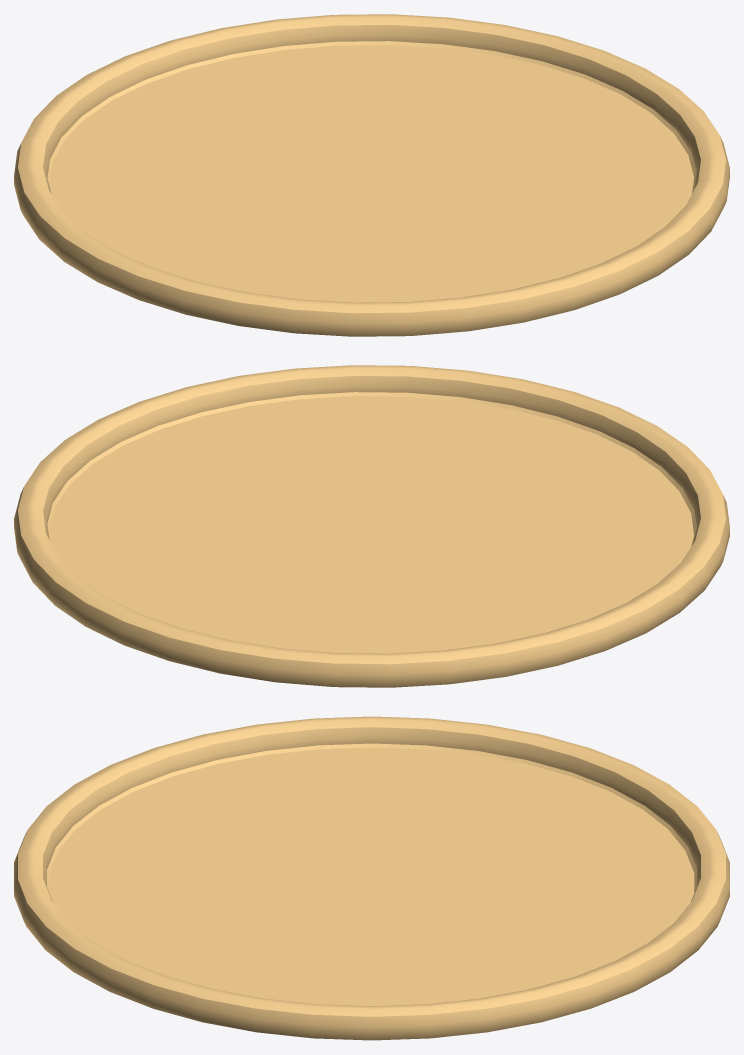
The model's file is Dough.glb.
3 views of the same model, one above another, from view 1: azimuth 30°, elevation 25°; view 2: azimuth 150°, elevation 25°; view 3: azimuth 270°, elevation 25° (orthographic).
Parts seen in each view (by area): view 1: pCylinder1; view 2: pCylinder1; view 3: pCylinder1.
Part boxes in pixels (<box>): pCylinder1: <box>14,14,729,336</box>; pCylinder1: <box>14,365,729,687</box>; pCylinder1: <box>14,716,729,1040</box>.
Size of the model in its own units: 0.4458 by 0.02 by 0.4443.
